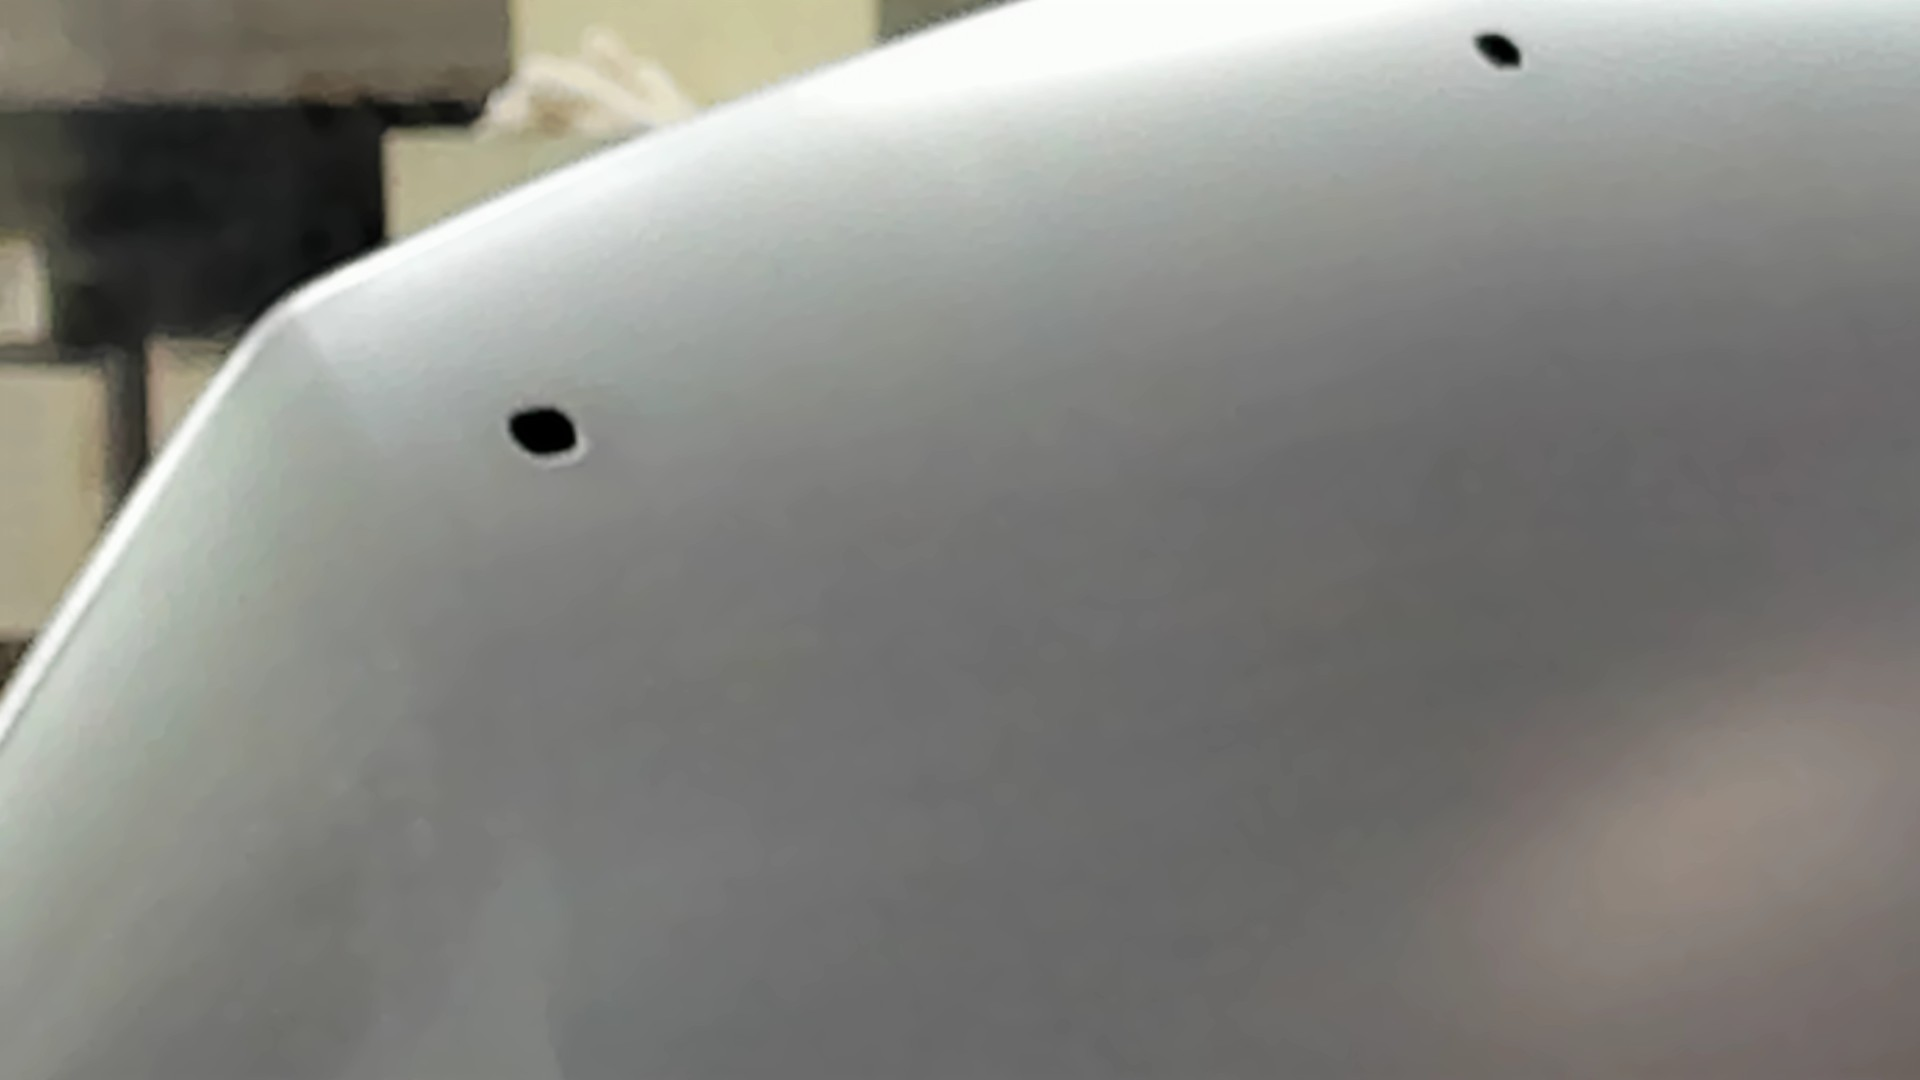amorfo: (492, 400, 603, 477), (1461, 24, 1536, 83)
capo: (728, 133, 1920, 1080)
